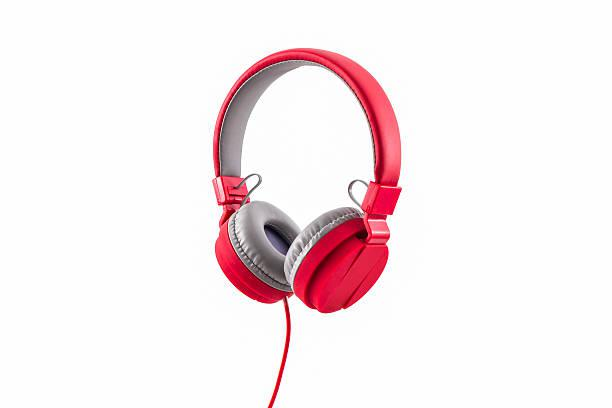headphone: (208, 47, 404, 311)
